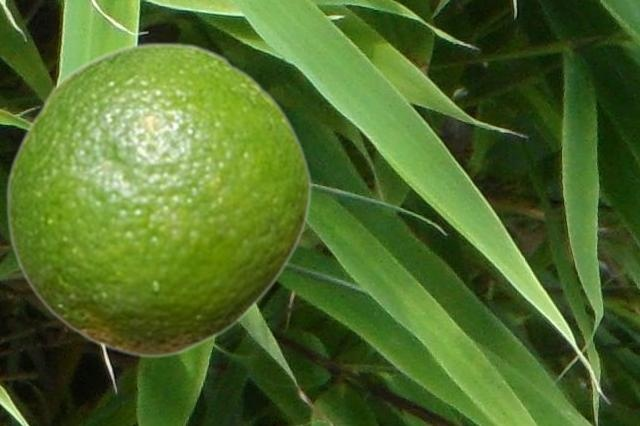calamansi: (5, 41, 311, 358)
